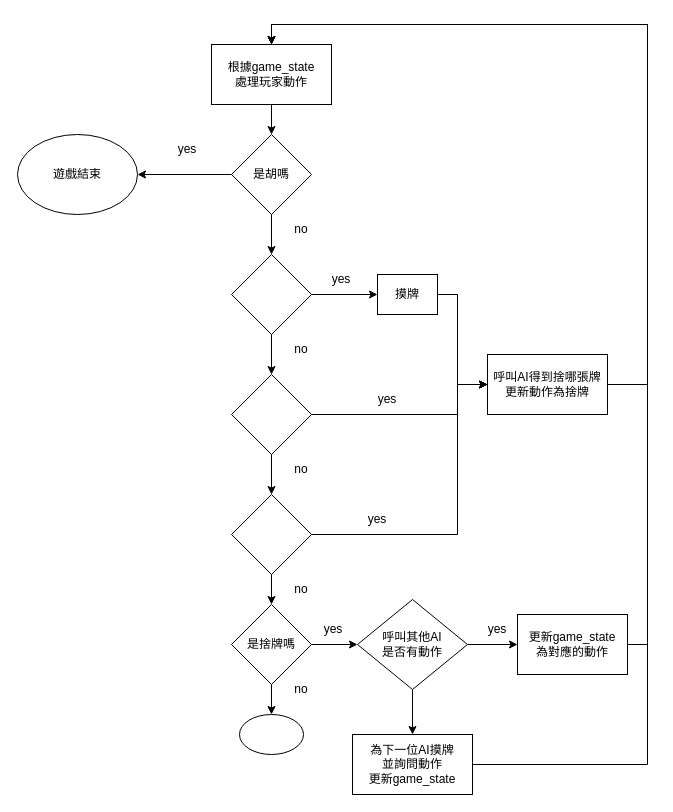
Some shapes in this 673 by 812 pixel diagram are drawn without their labels. The shapes that lost their labels are listed below. From the top down, each one's centre as x and y in pixels, then its label:
At point (271, 294): "是槓嗎".
At point (271, 414): "是碰嗎".
At point (271, 534): "是吃嗎".
At point (271, 734): "錯誤".
